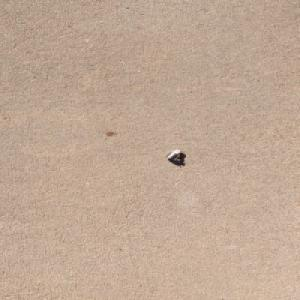MetalPart: (164, 149, 183, 162)
